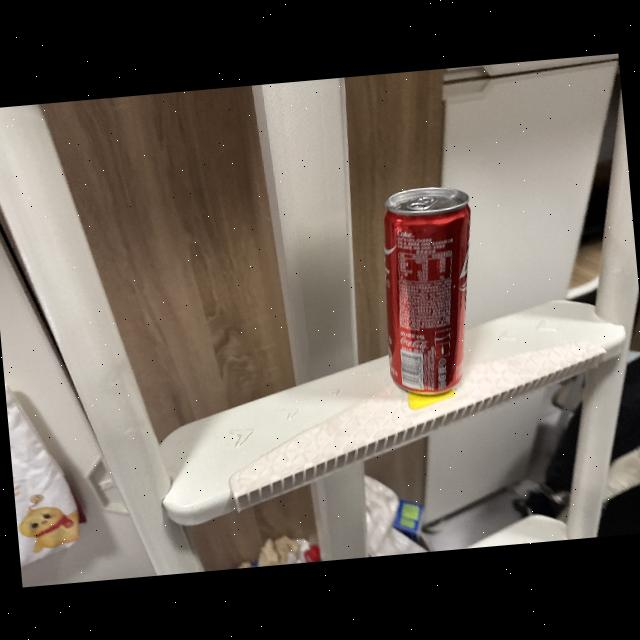Cola: (367, 177, 493, 404)
